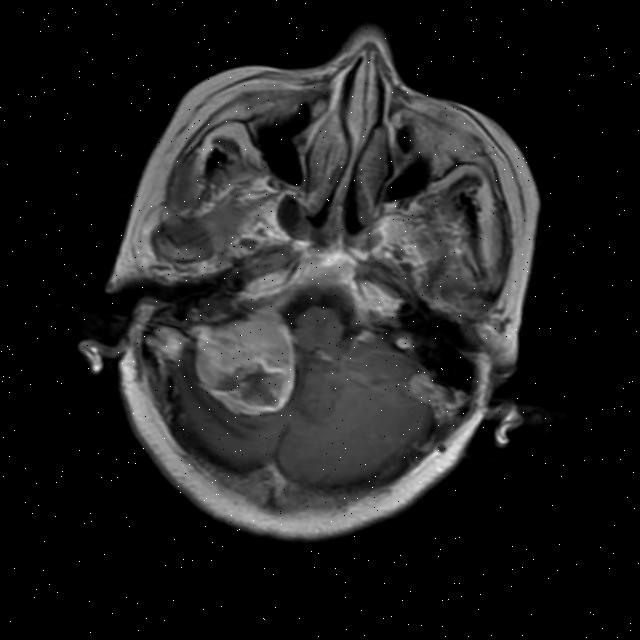Meningioma: (172, 285, 313, 428)
